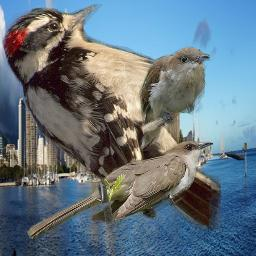Cuckoo: (26, 139, 213, 239), (137, 46, 210, 151)
Woodpecker: (2, 4, 221, 230)
